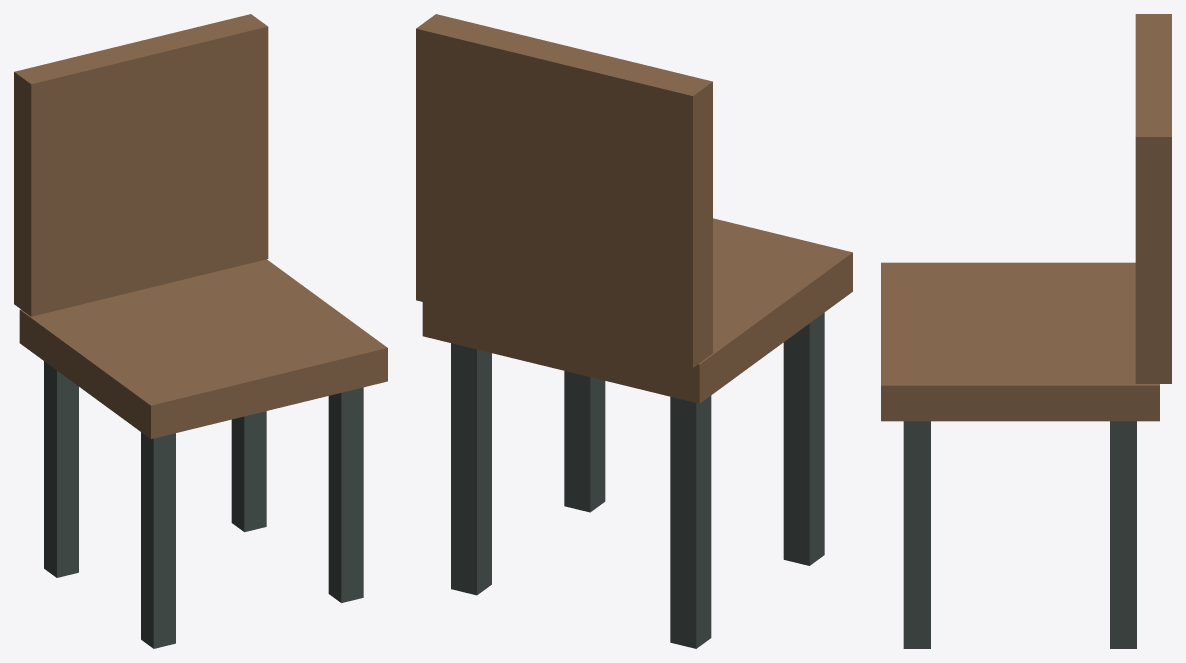
The model's file is chair.glb.
3 views of the same model, side by side, from view 1: azimuth 30°, elevation 25°; view 2: azimuth 150°, elevation 25°; view 3: azimuth 270°, elevation 25° (orthographic). The views are drawn at different scales.
Parts seen in each view (by area): view 1: Cafe chair; view 2: Cafe chair; view 3: Cafe chair.
Boxes of the visible parts, x1=… form: Cafe chair: x1=14, y1=14, x2=387, y2=648; Cafe chair: x1=416, y1=14, x2=852, y2=648; Cafe chair: x1=881, y1=14, x2=1171, y2=648.
Size of the model in its own units: 0.48 by 0.945 by 0.48.
